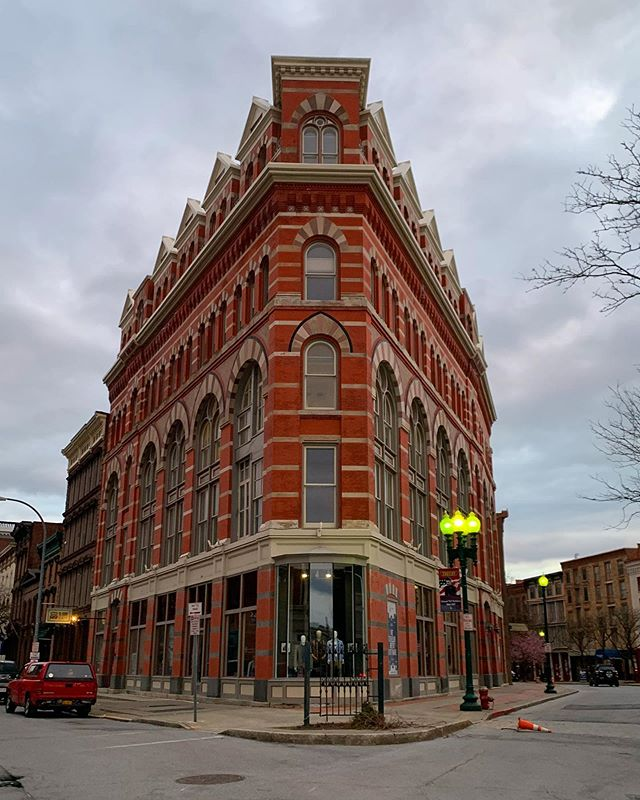building: (93, 86, 526, 681), (521, 554, 640, 677), (55, 432, 98, 664), (10, 521, 61, 654)
car: (6, 657, 105, 722)
sidewalk: (311, 678, 560, 753), (117, 691, 309, 747)
sky: (401, 3, 640, 548), (1, 13, 248, 468)
street: (23, 724, 640, 800)
